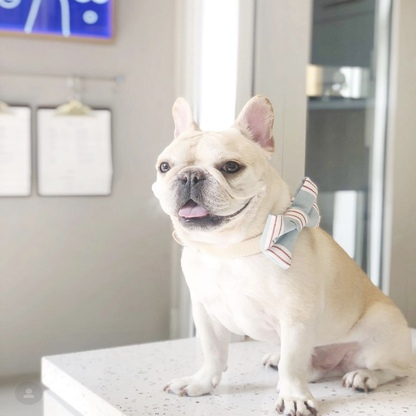bulldog: (150, 91, 411, 416)
